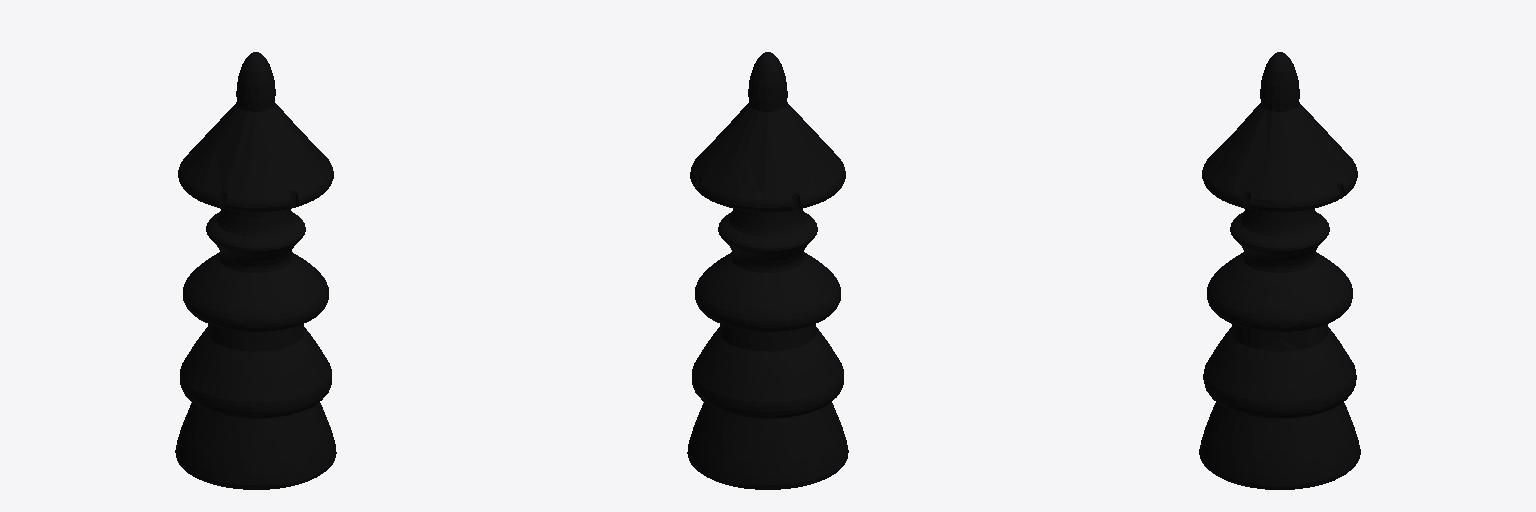
Rendered from blackKing.obj.
3 renders of one model, left to right at view 1: azimuth 30°, elevation 25°; view 2: azimuth 150°, elevation 25°; view 3: azimuth 270°, elevation 25°, orthographic.
Parts seen in each view (by area): view 1: Obj_000093; view 2: Obj_000093; view 3: Obj_000093.
Boxes of the visible parts, <box> form: Obj_000093: <box>175,52,336,489</box>; Obj_000093: <box>687,52,848,489</box>; Obj_000093: <box>1199,52,1360,489</box>.
Bounding box in the file's own units: 3.74 × 10.37 × 3.74.